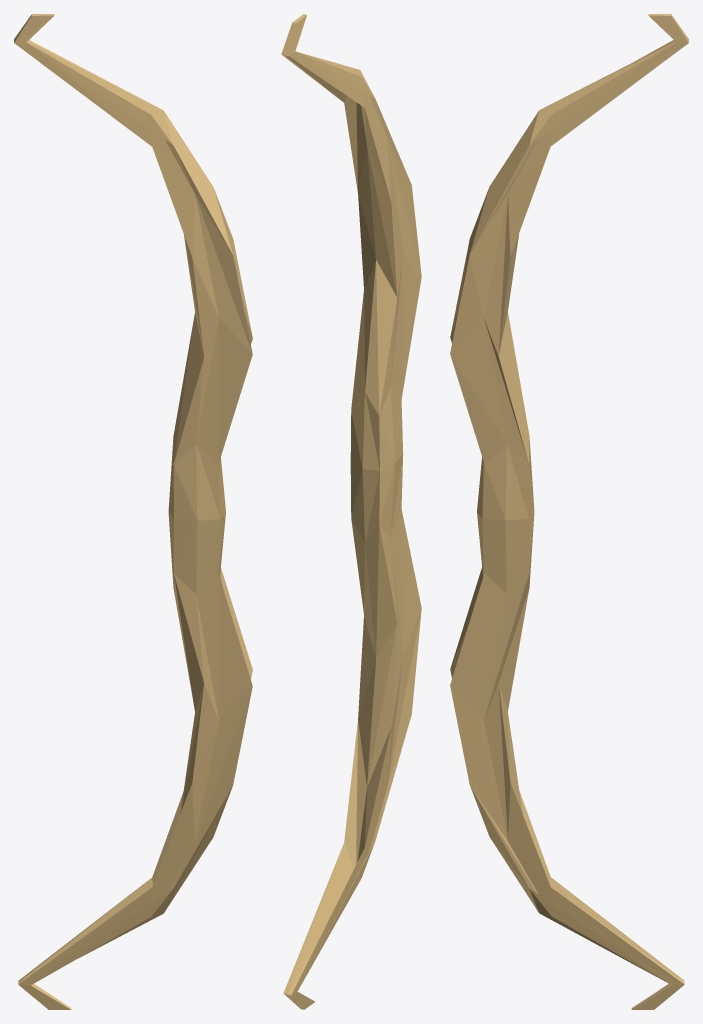
File: OakShortbow.glb
The picture shows the model from 3 angles, left to right: view 1: azimuth 90°, elevation 25°; view 2: azimuth 150°, elevation 25°; view 3: azimuth 270°, elevation 25°; orthographic projection.
Parts seen in each view (by area): view 1: EQ_OakShortbow; view 2: EQ_OakShortbow; view 3: EQ_OakShortbow.
Boxes of the visible parts, left/top/right/bottom form: EQ_OakShortbow: left=14, top=14, right=252, bottom=1009; EQ_OakShortbow: left=281, top=14, right=421, bottom=1009; EQ_OakShortbow: left=450, top=14, right=688, bottom=1009.
Bounding box in the file's own units: 0.0393 × 1.03 × 0.2245.
